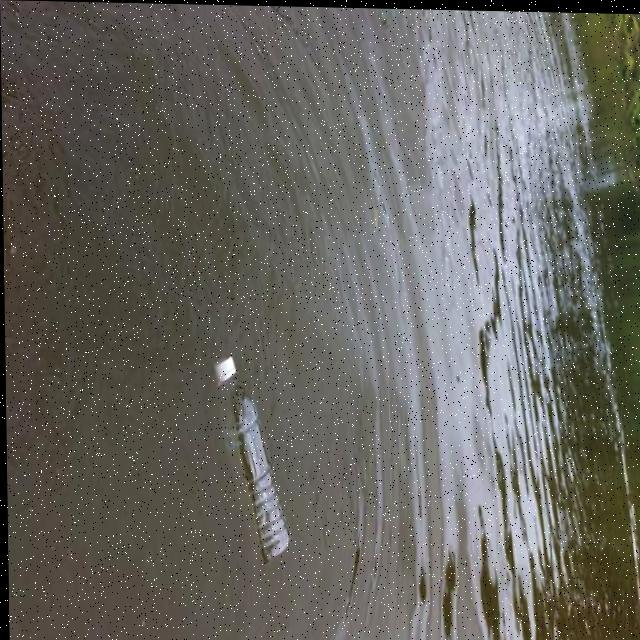waterbottle: (203, 348, 295, 576)
